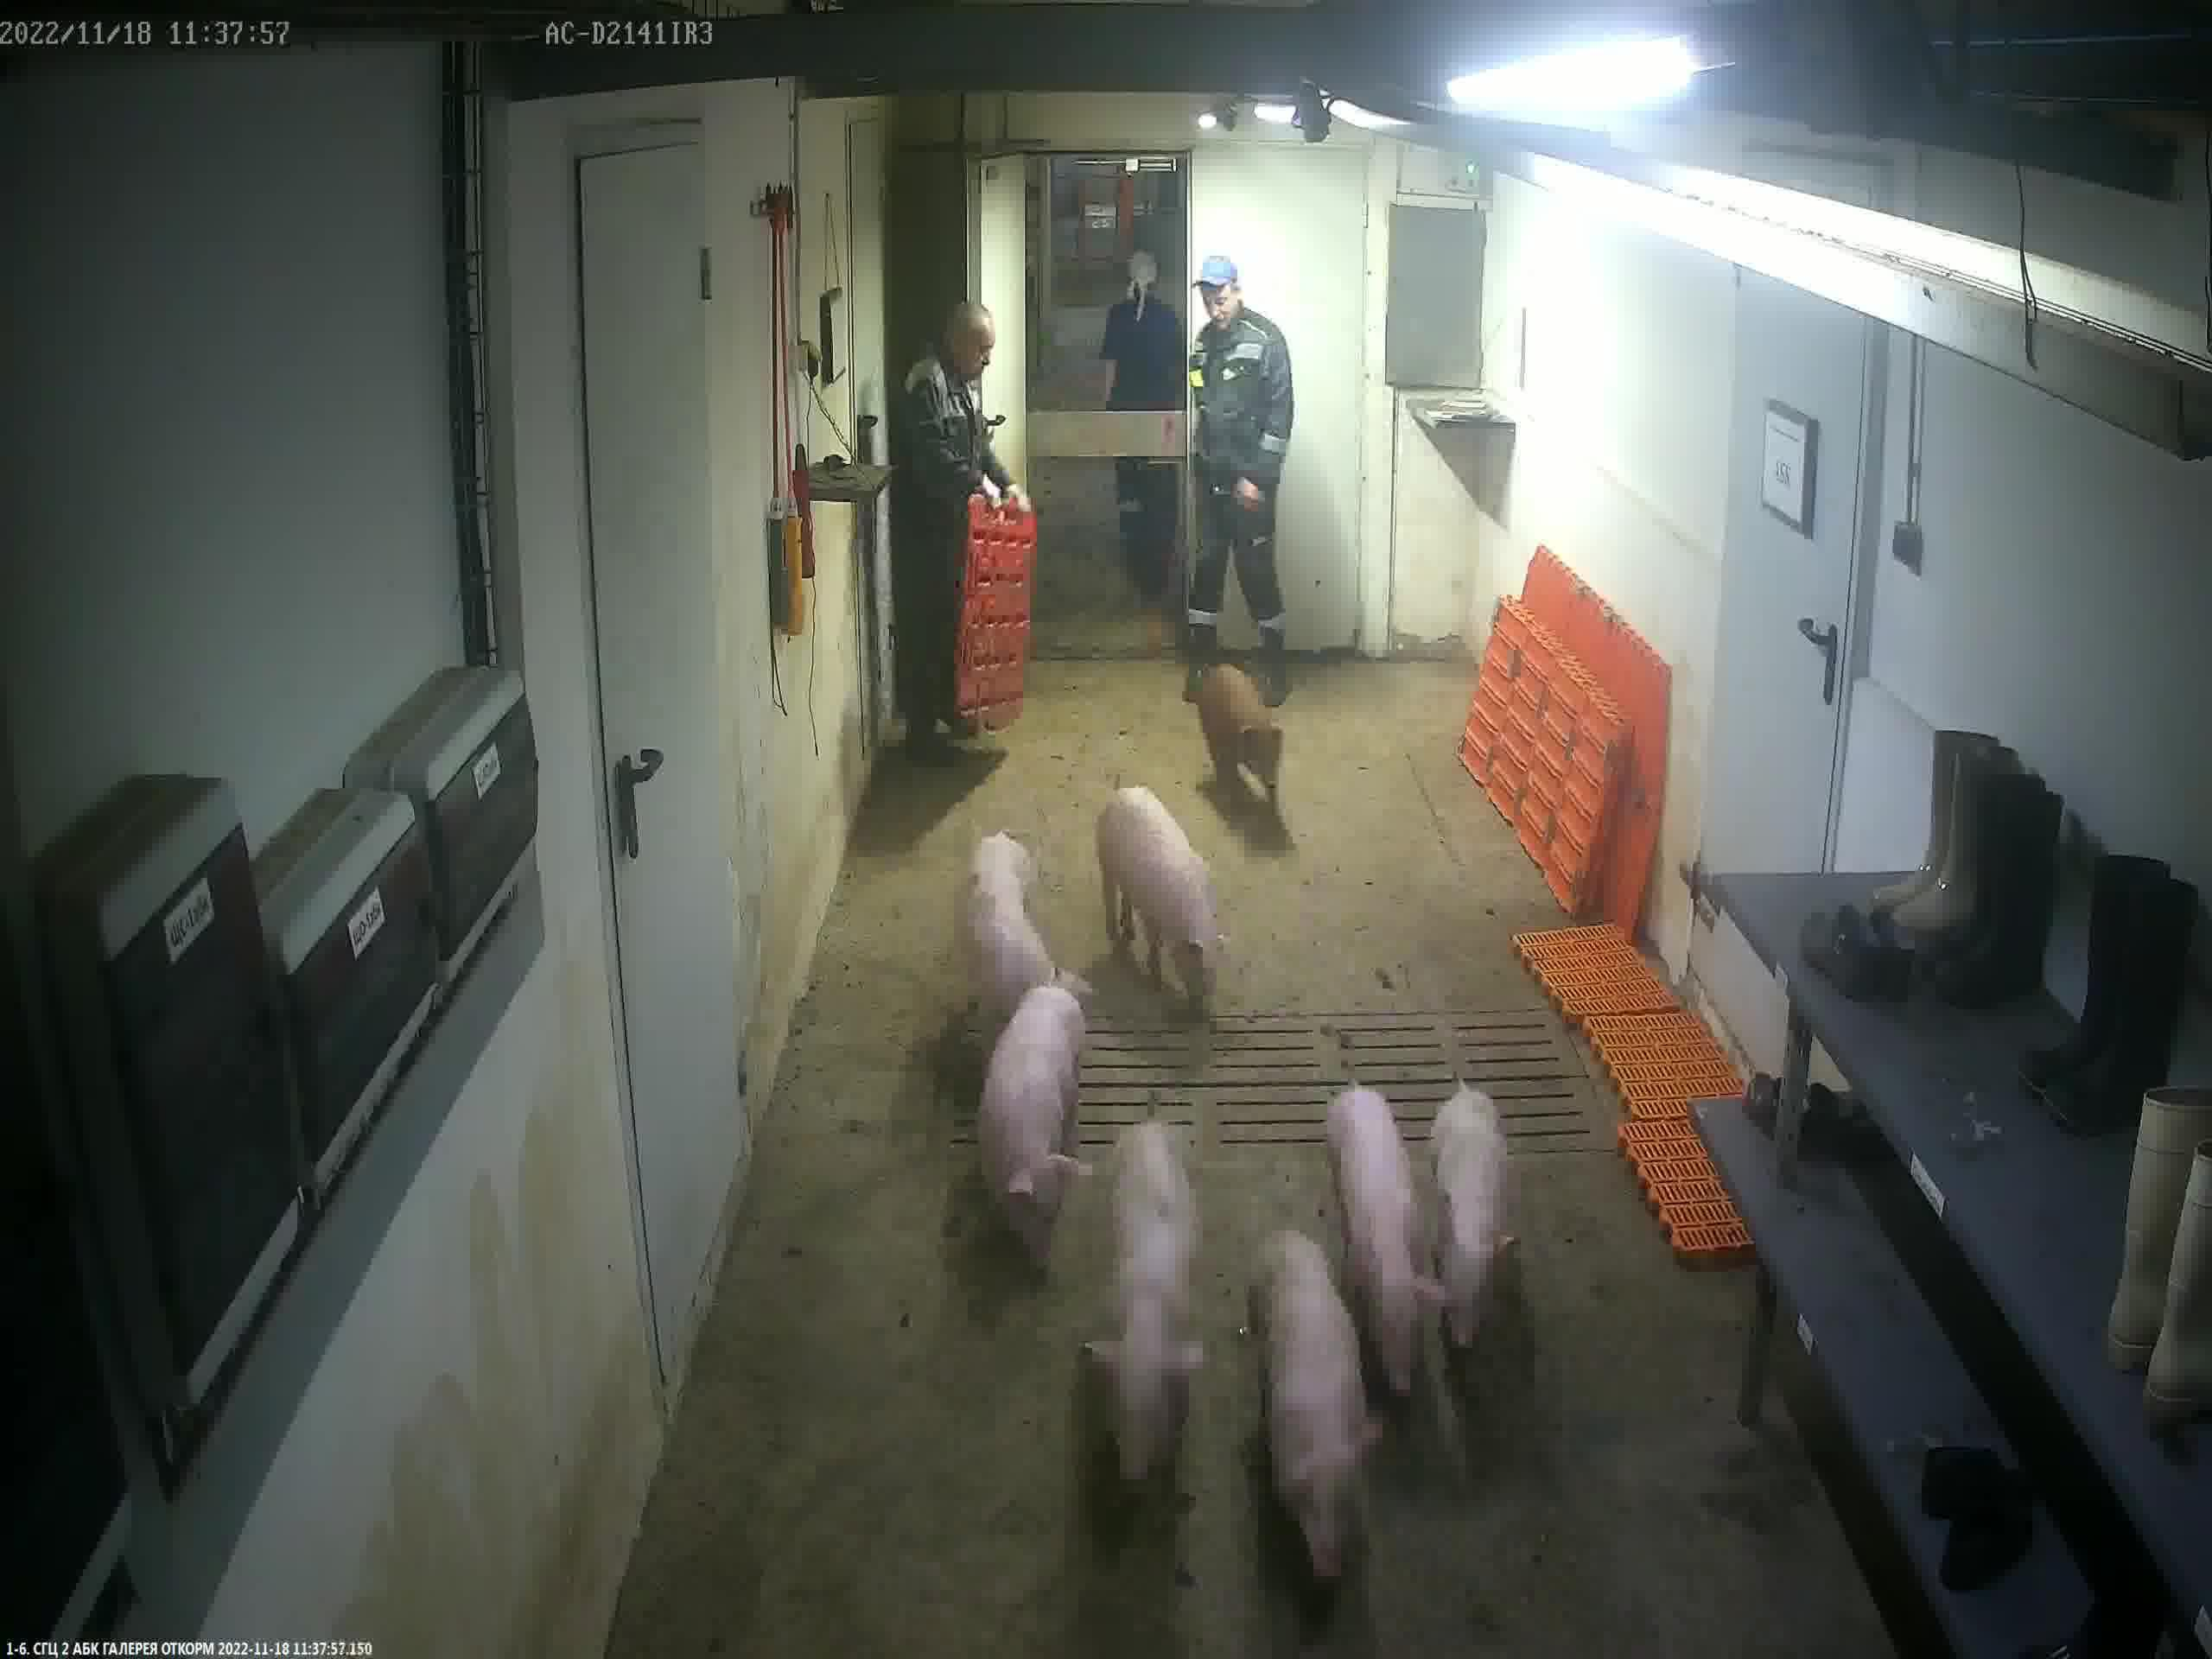Pigs: (1080, 1124, 1204, 1480), (1256, 1230, 1381, 1579), (1327, 1089, 1447, 1398), (982, 988, 1080, 1270), (1097, 788, 1216, 1019), (1432, 1089, 1517, 1351), (974, 835, 1090, 999), (1204, 664, 1282, 803)
